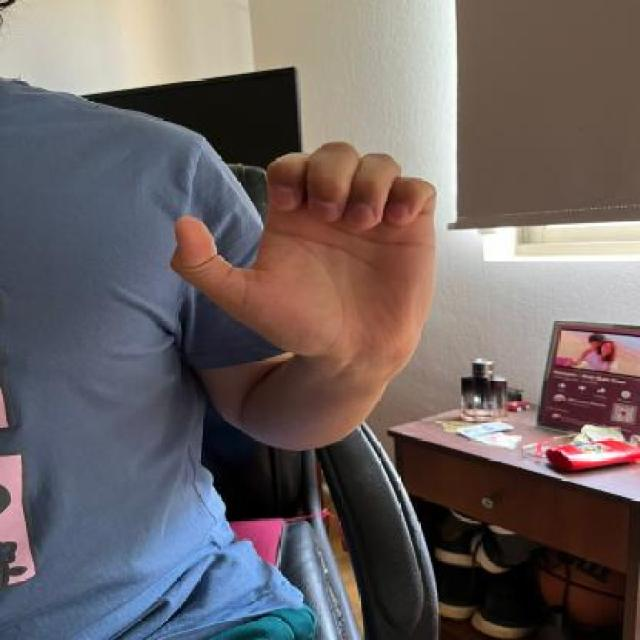E: (166, 132, 451, 368)
